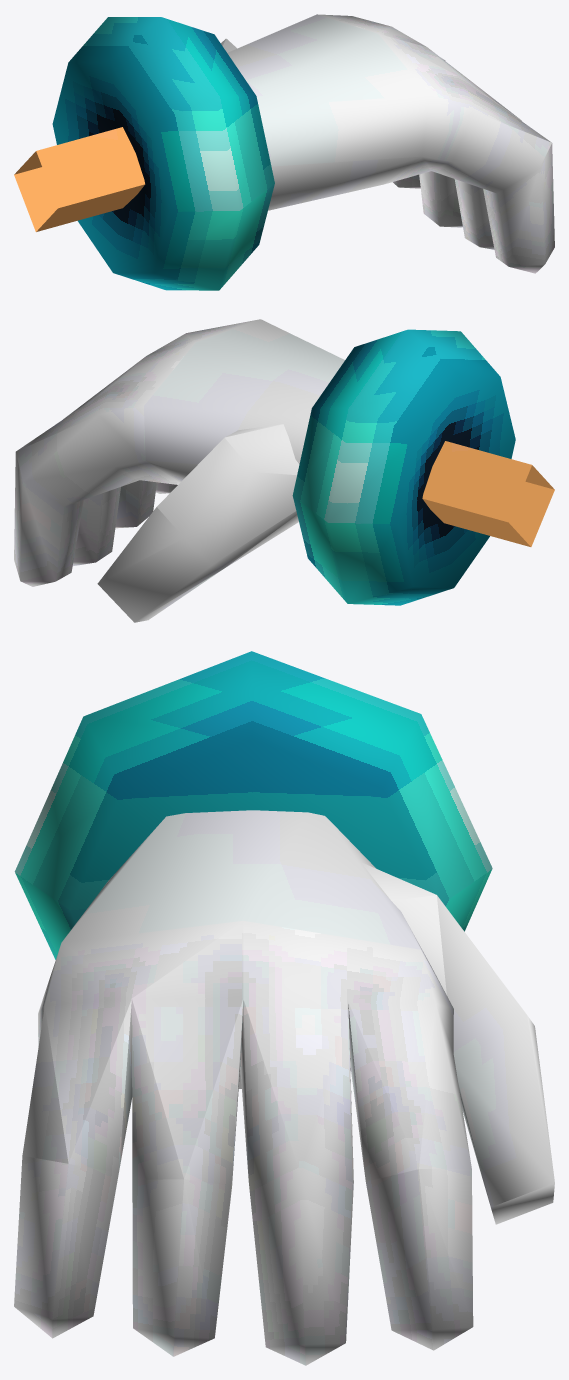
File: lightdashring.obj
3 renders of one model, top to bottom at view 1: azimuth 30°, elevation 25°; view 2: azimuth 150°, elevation 25°; view 3: azimuth 270°, elevation 25°, orthographic. The views are drawn at different scales.
Parts seen in each view (by area): view 1: object_5832842, object_564CD02, object_5647B82, object_583284; view 2: object_5832842, object_5647B82, object_564A782, object_564CD02, object_583284; view 3: object_5647B82, object_5832842, object_564CD02, object_564A782.
Part boxes in pixels (x1,y1,x2,y2): object_5832842: [52, 17, 274, 290]; object_564CD02: [227, 14, 428, 210]; object_5647B82: [317, 14, 554, 273]; object_583284: [14, 127, 145, 231]; object_5832842: [292, 329, 515, 605]; object_5647B82: [14, 319, 259, 586]; object_564A782: [97, 424, 299, 622]; object_564CD02: [144, 319, 344, 482]; object_583284: [422, 441, 554, 546]; object_5647B82: [14, 921, 473, 1365]; object_5832842: [14, 651, 492, 959]; object_564CD02: [62, 810, 452, 1006]; object_564A782: [361, 862, 554, 1224].
Bounding box in the file's own units: 2.64 × 1.63 × 1.7.
4 materials, 4 textured.
